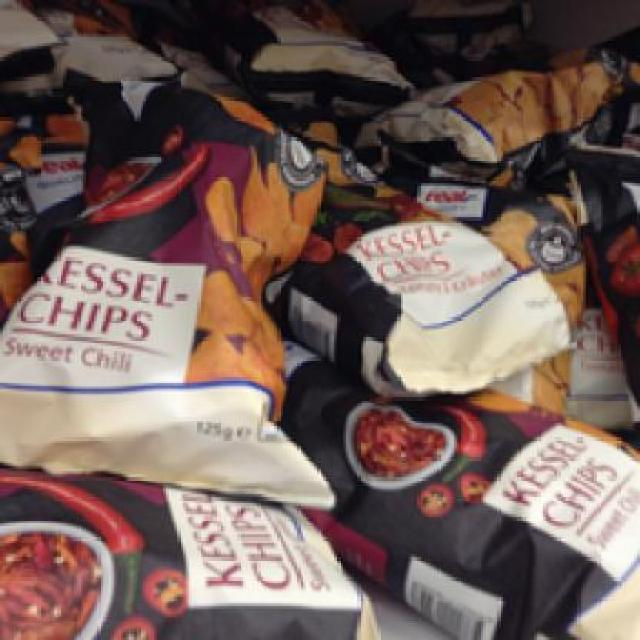Chips: (0, 100, 343, 509), (266, 352, 634, 638), (257, 96, 572, 392)
